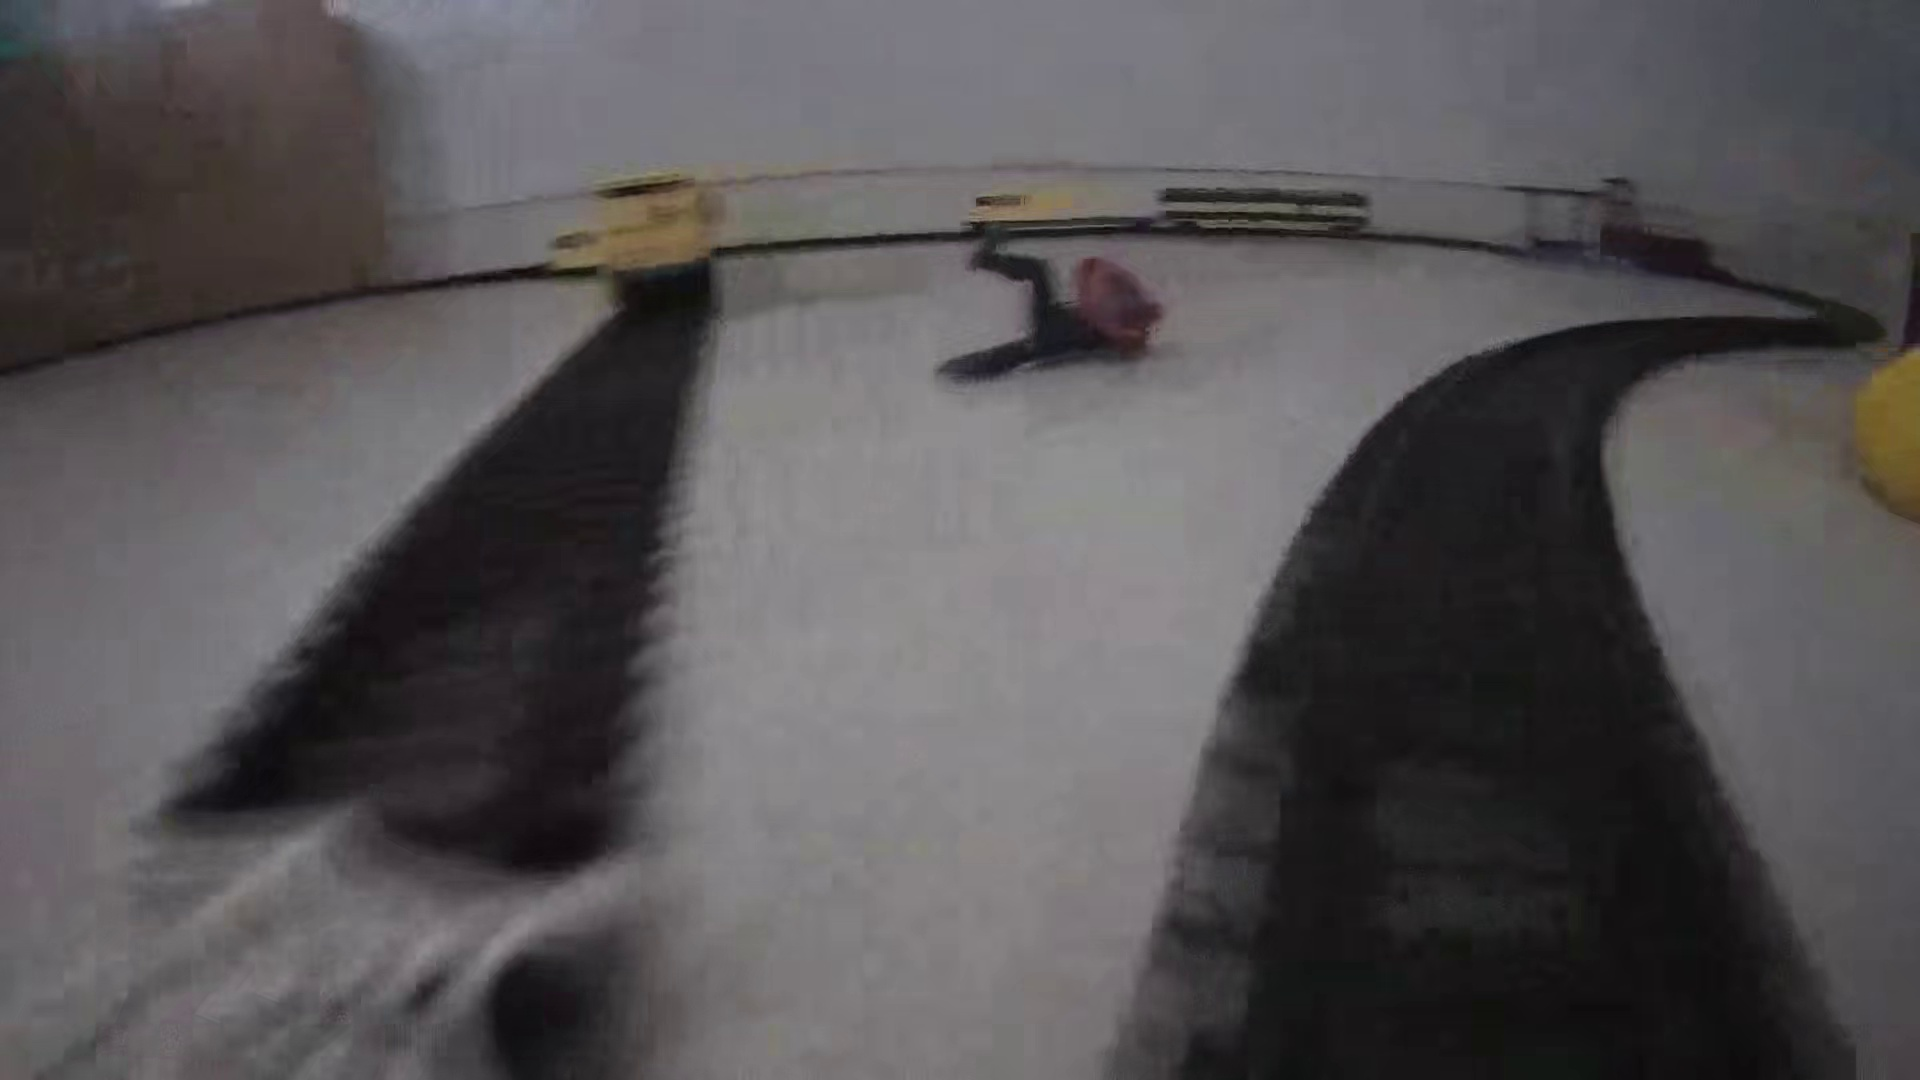people: (933, 218, 1170, 387)
